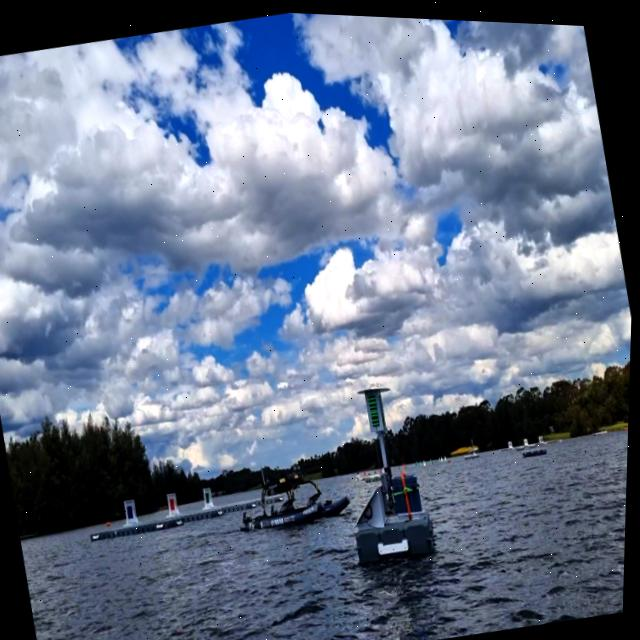led: (367, 388, 385, 425)
